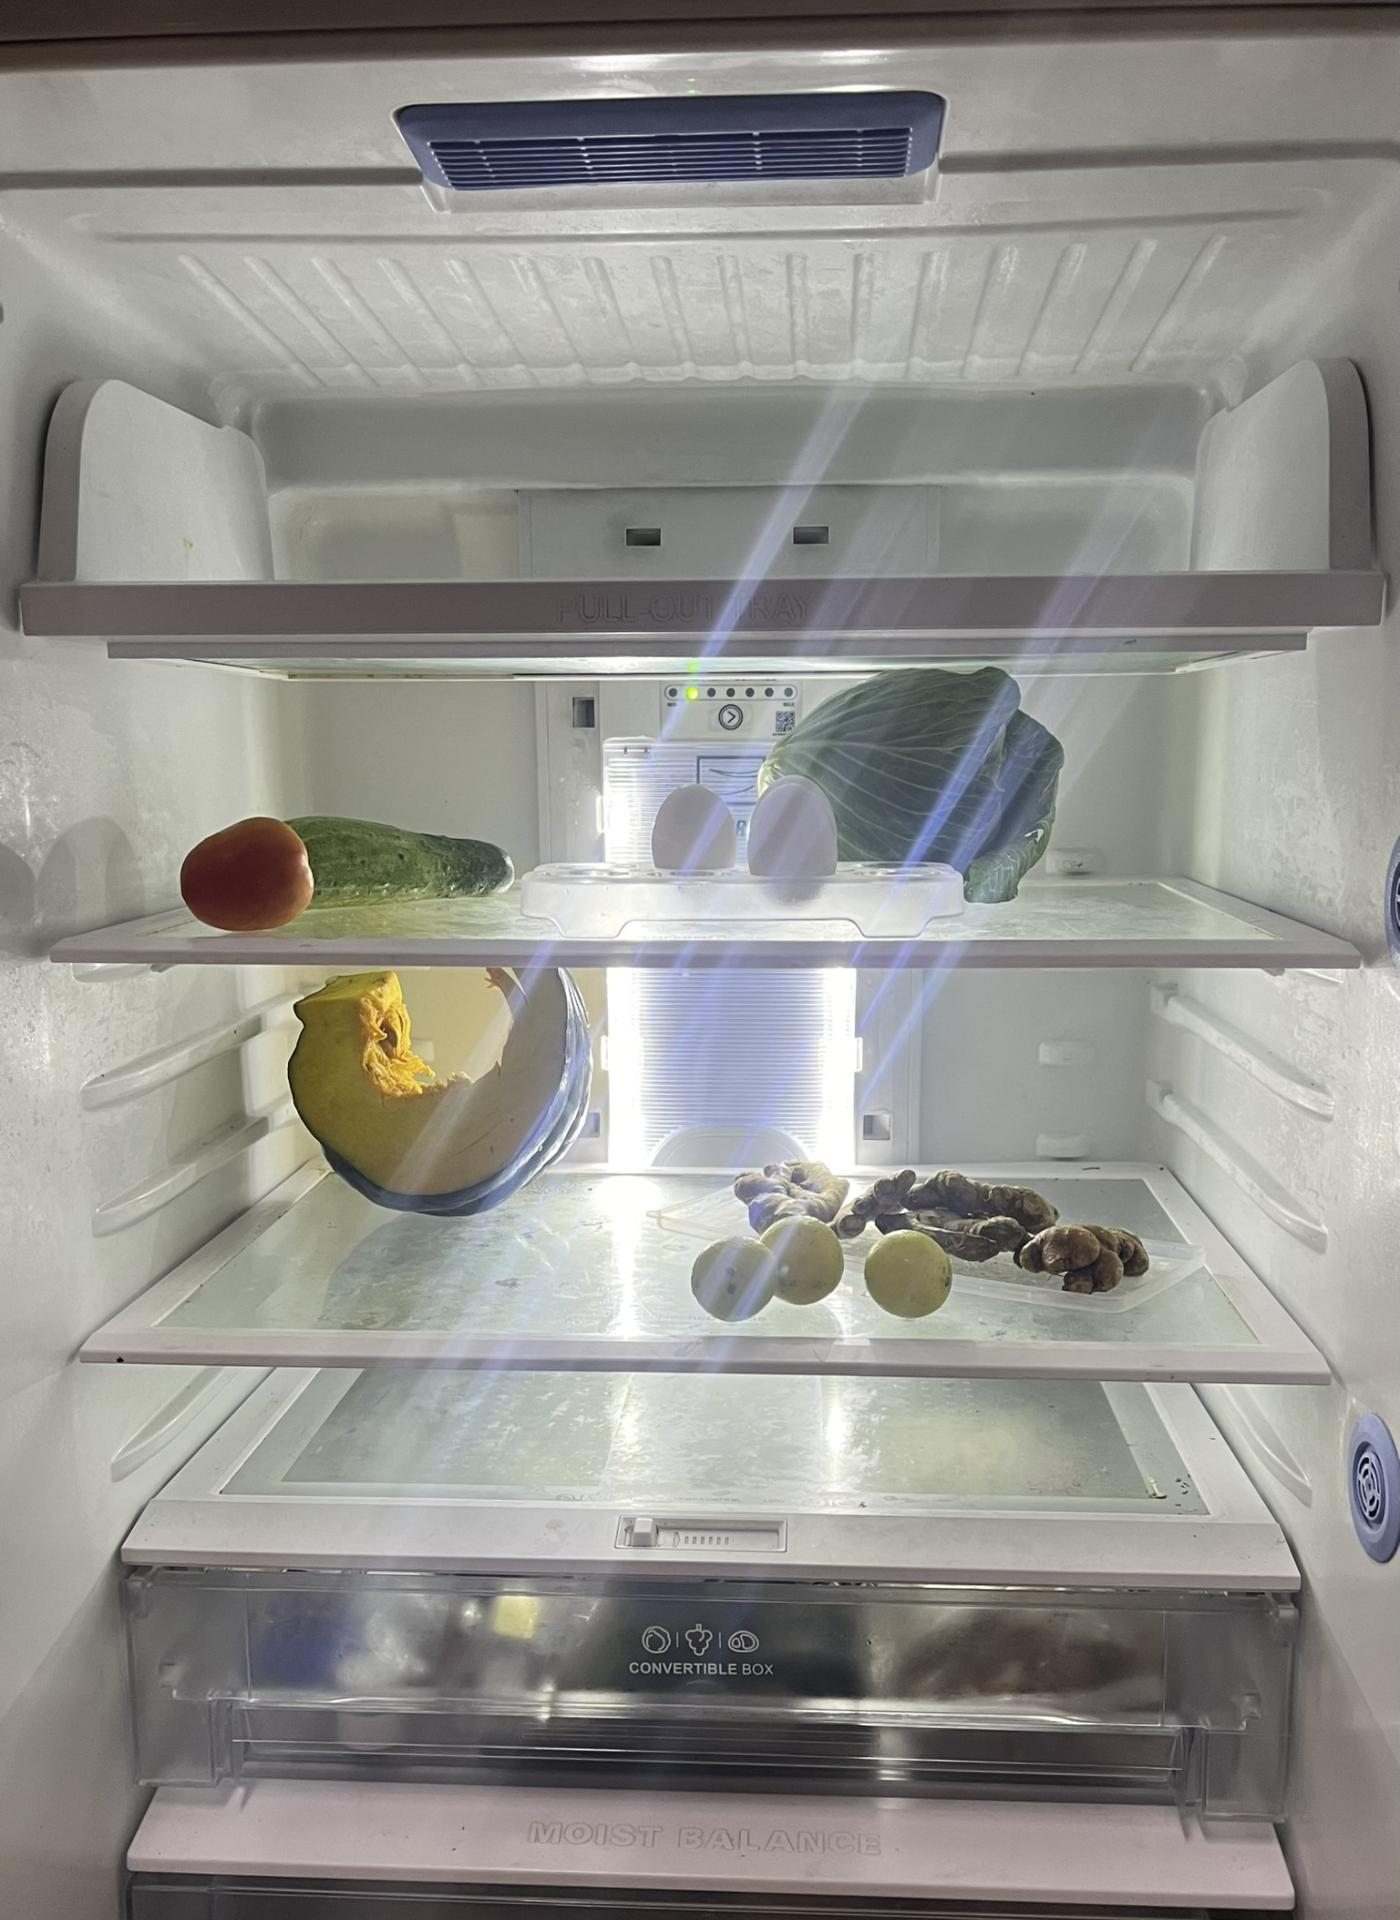cabbage: (766, 666, 1042, 906)
cucumber: (274, 817, 535, 902)
egg: (653, 781, 839, 909)
ginger: (745, 1145, 1160, 1289)
lemon: (686, 1216, 847, 1330), (857, 1231, 953, 1319)
pumpkin: (289, 966, 608, 1210)
tomato: (171, 812, 312, 932)
